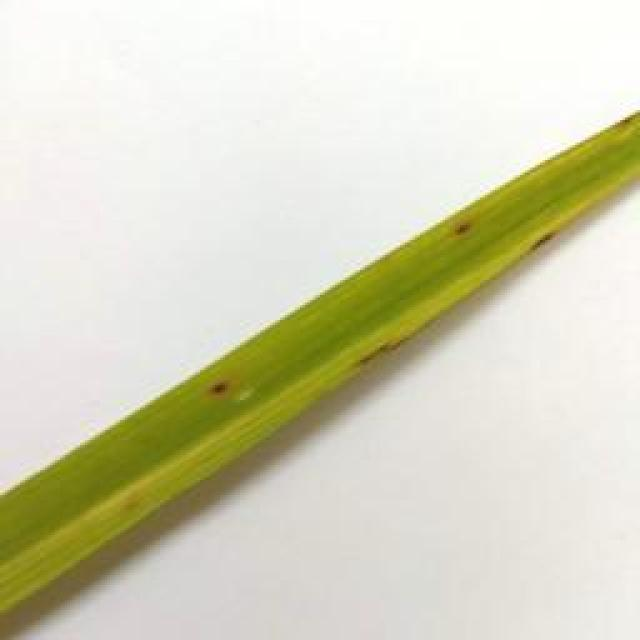Brown_Spot: (353, 318, 420, 377), (600, 102, 640, 146), (522, 225, 561, 260), (435, 211, 476, 244), (201, 369, 239, 400)
